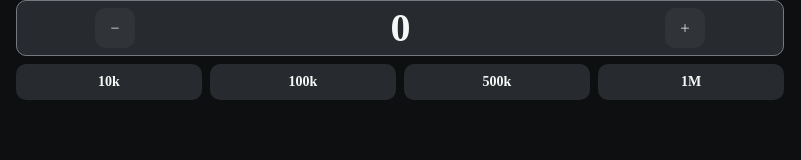
Test: TokenInput › handles suggestion button clicks
The width and height of the screenshot is (801, 160).
Click the button "10k". click: (109, 82)
box: [16,64,202,100]
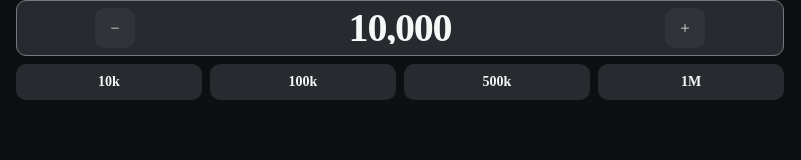
Now the field holds "10,000", box [143,12,657,44]
Click the button "100k". click: (303, 82)
box: [210,64,396,100]
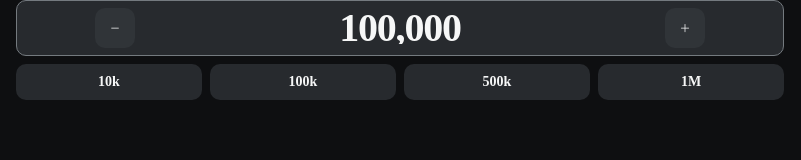
Now the field holds "100,000", box [143,12,657,44]
Click the button "500k". click: (497, 82)
box: [404,64,590,100]
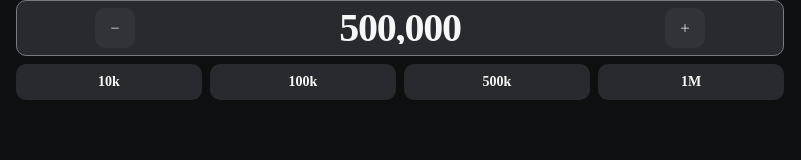
Now the field holds "500,000", box [143,12,657,44]
Click the button "1M". click: (691, 82)
box: [598,64,784,100]
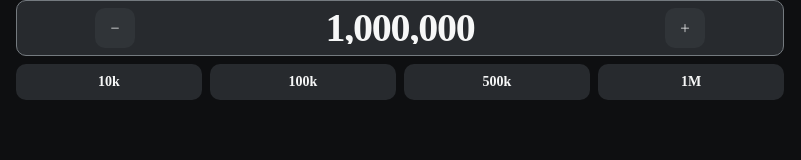
Now the field holds "1,000,000", box [143,12,657,44]
